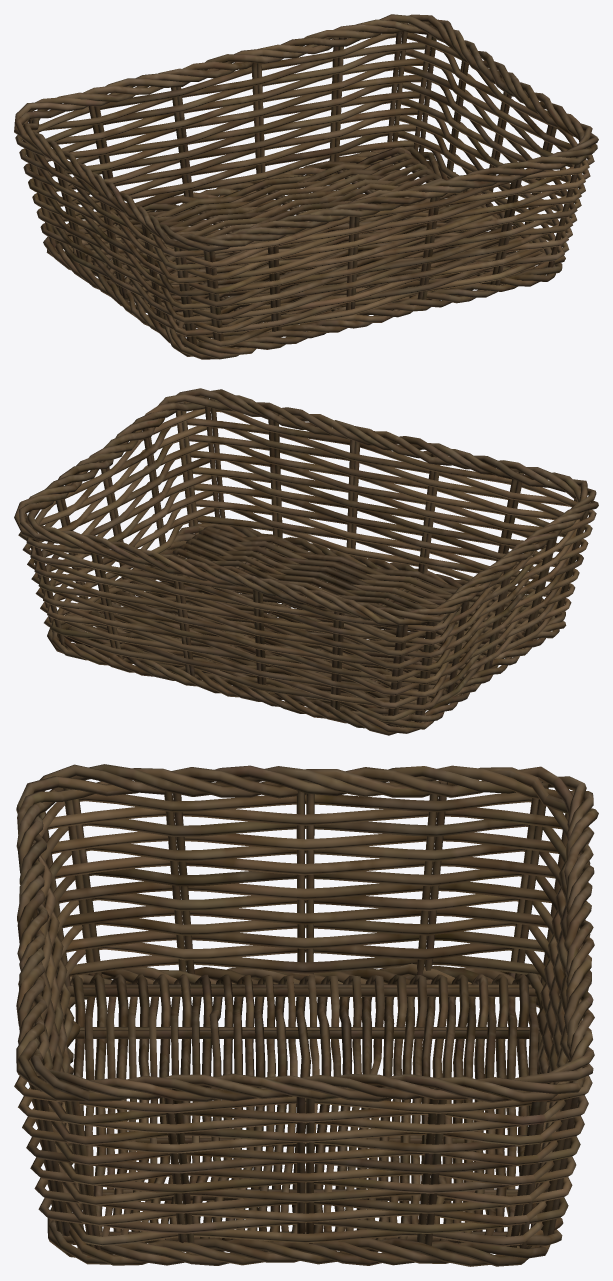
File: wicker_basket_01.glb
3 views of the same model, one above another, from view 1: azimuth 30°, elevation 25°; view 2: azimuth 150°, elevation 25°; view 3: azimuth 270°, elevation 25° (orthographic). The views are drawn at different scales.
Parts seen in each view (by area): view 1: wicker_basket_01; view 2: wicker_basket_01; view 3: wicker_basket_01.
Part boxes in pixels (box(x1,y1,x2,y2)): wicker_basket_01: box(14, 14, 598, 359); wicker_basket_01: box(14, 388, 598, 735); wicker_basket_01: box(14, 764, 598, 1266).
Bounding box in the file's own units: 0.3832 × 0.1174 × 0.295.
Materials: 1 (1 with a texture image).
